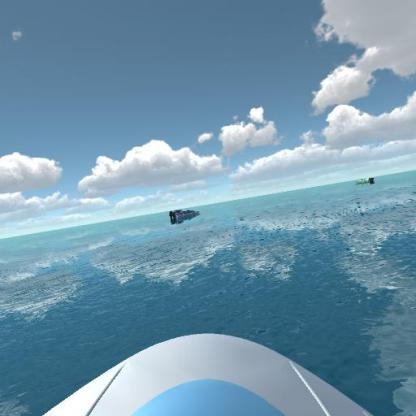usv0: (356, 173, 376, 189)
usv1: (167, 204, 202, 224)
